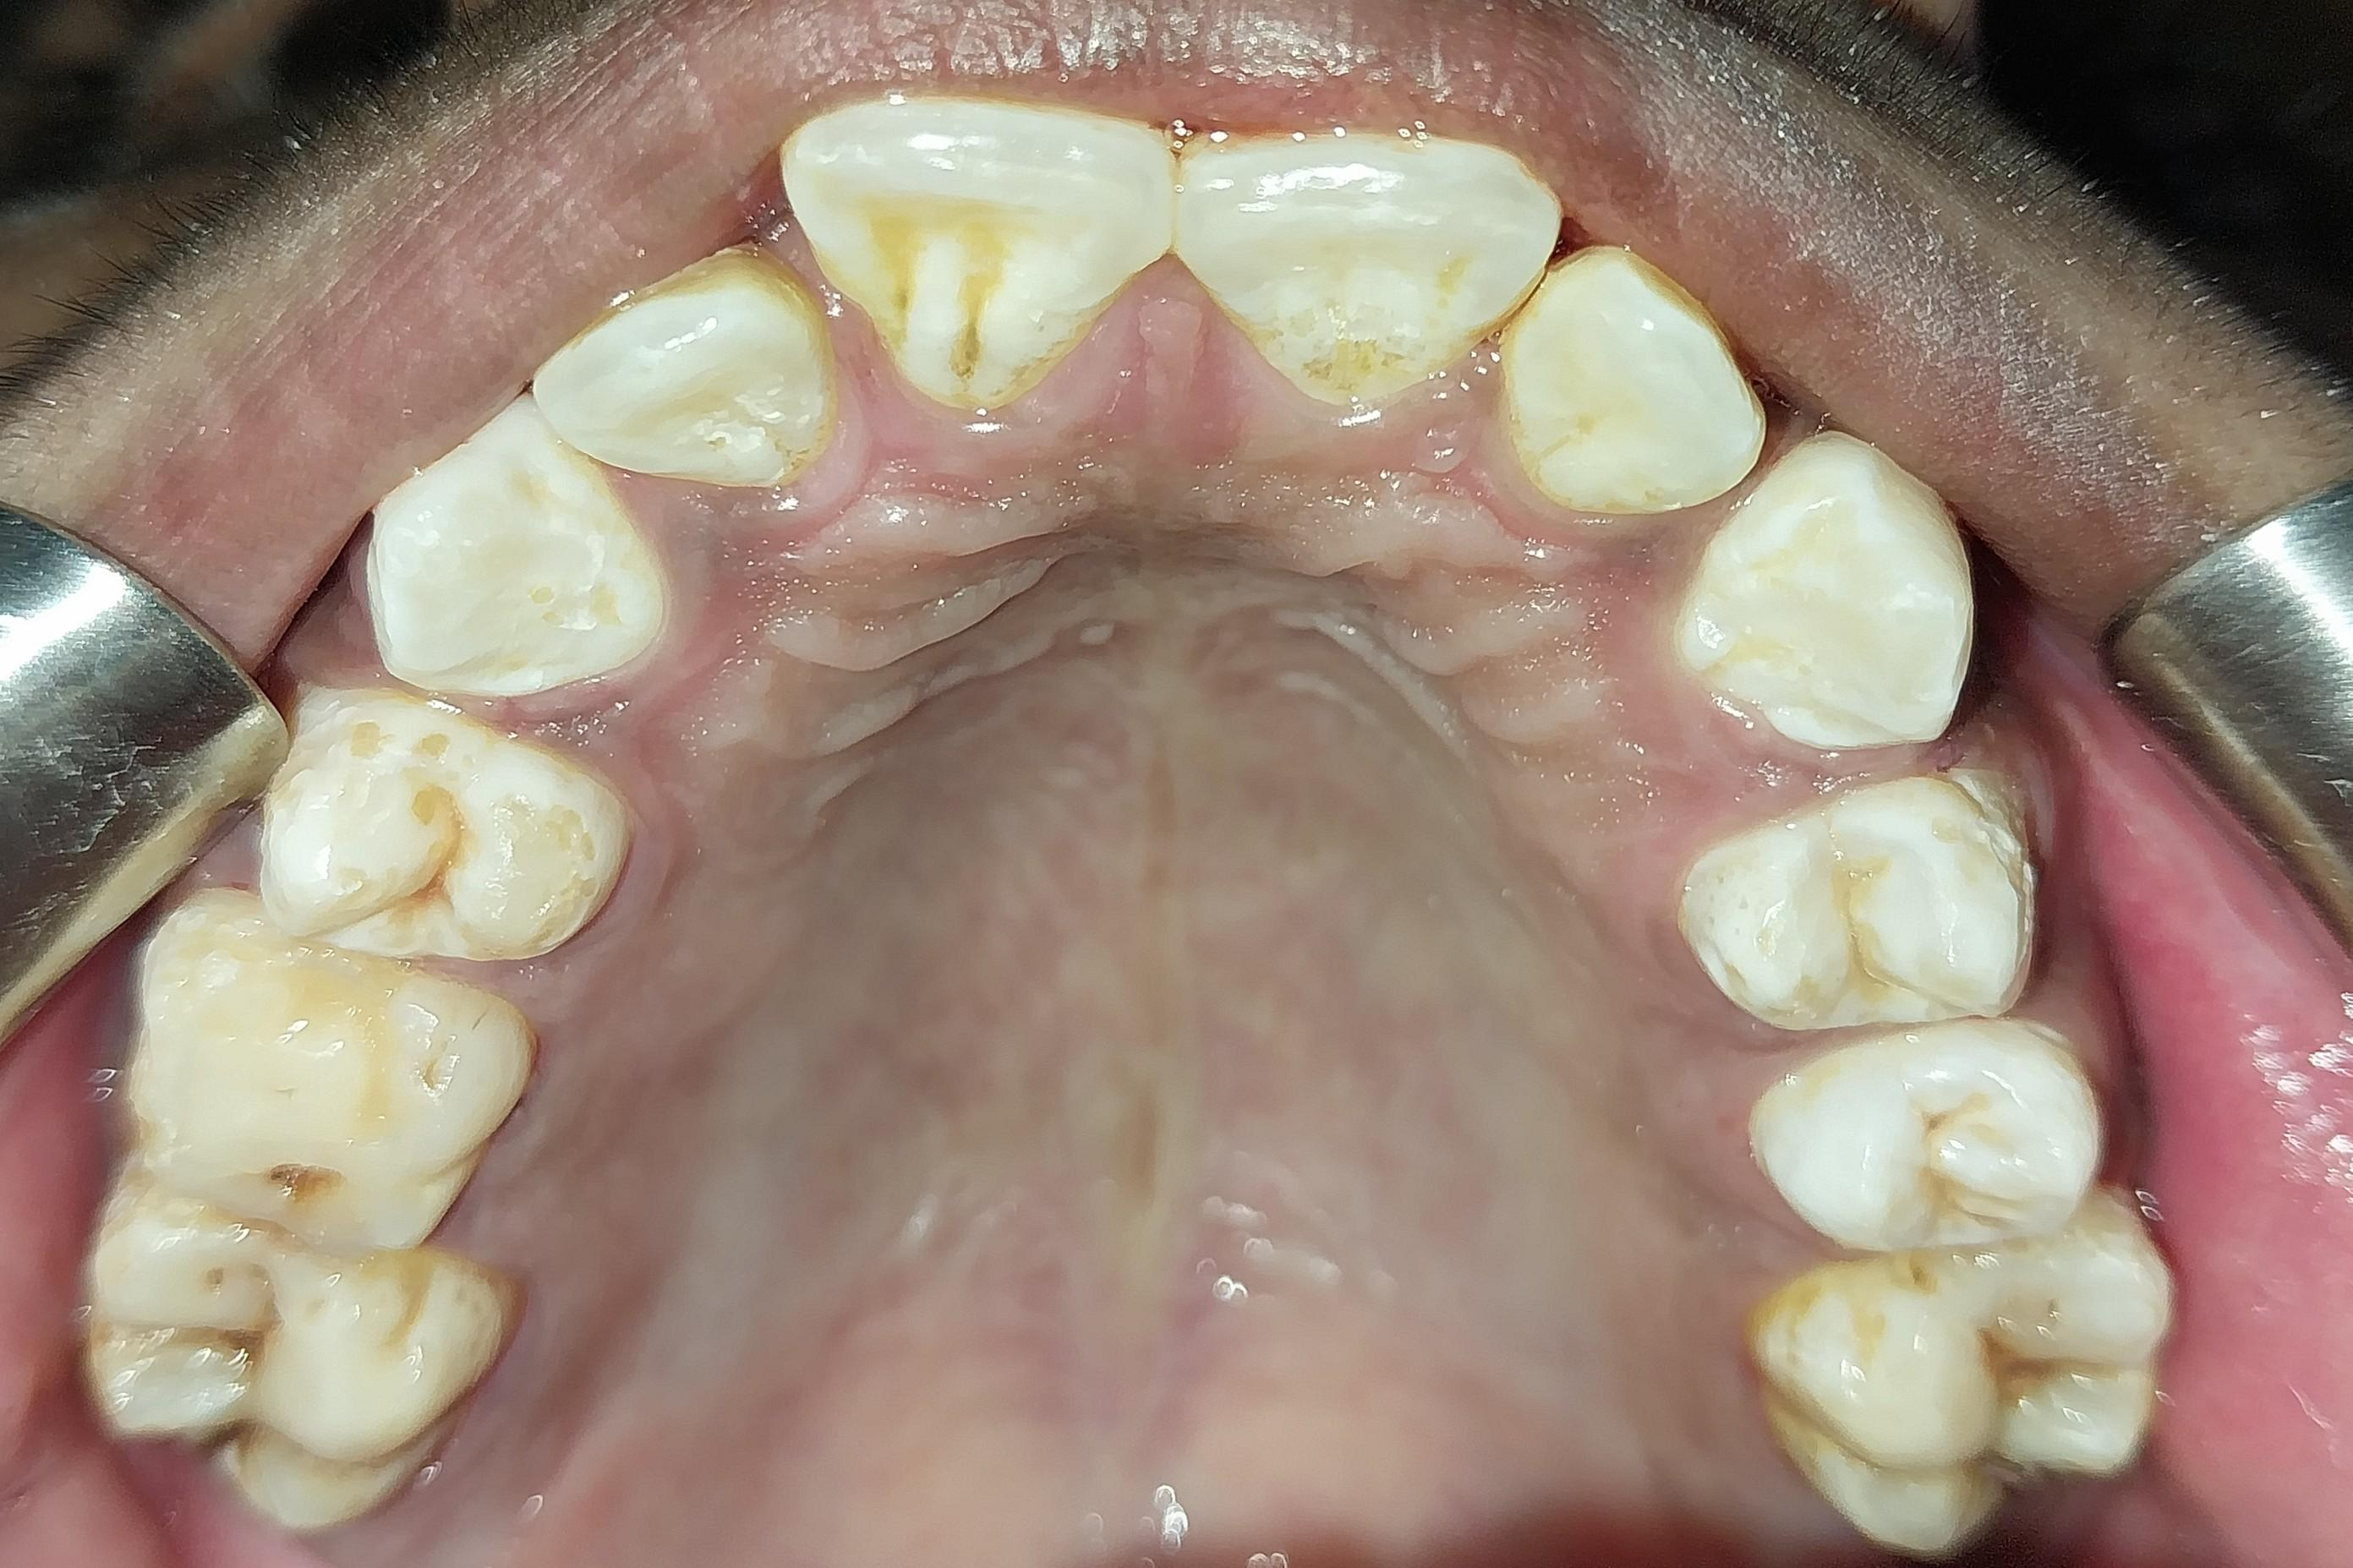D: (74, 1183, 494, 1535)
